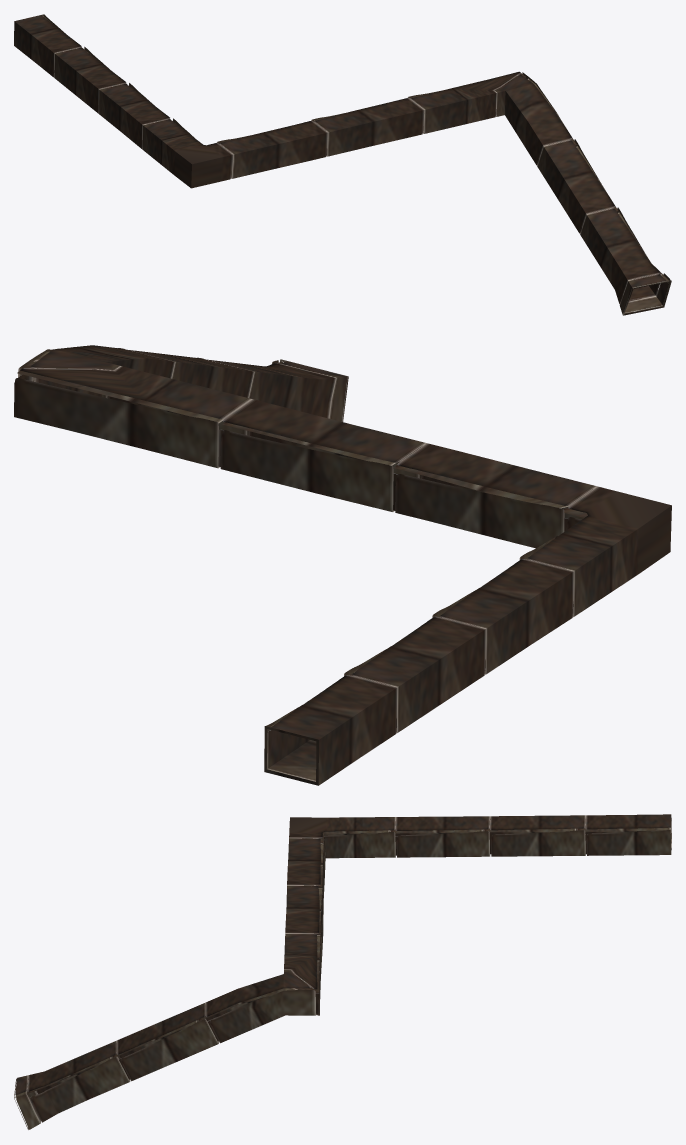
Rendered from Textured Vent .obj.
3 views of the same model, one above another, from view 1: azimuth 30°, elevation 25°; view 2: azimuth 150°, elevation 25°; view 3: azimuth 270°, elevation 25° (orthographic). The views are drawn at different scales.
Visible parts, largest first — view 1: pCube1; view 2: pCube1; view 3: pCube1.
Boxes of the visible parts, bbox=[...] form: pCube1: bbox=[14, 14, 671, 315]; pCube1: bbox=[14, 345, 671, 785]; pCube1: bbox=[14, 814, 671, 1129].
Bounding box in the file's own units: 34.22 × 13.32 × 54.54.
Materials: 1 (1 with a texture image).
